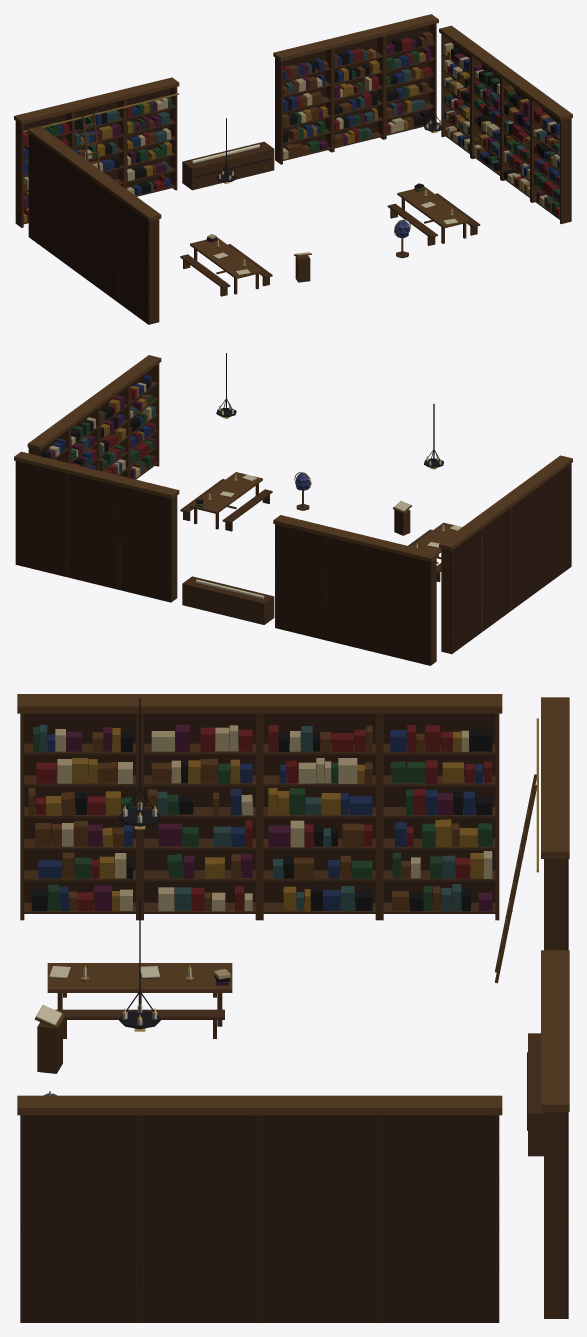
The model's file is moon-archive.glb.
3 renders of one model, top to bottom at view 1: azimuth 30°, elevation 25°; view 2: azimuth 150°, elevation 25°; view 3: azimuth 270°, elevation 25°, orthographic. The views are drawn at different scales.
Visible parts, largest first — view 1: moon-archive; view 2: moon-archive; view 3: moon-archive.
Part boxes in pixels (bbox=[...]): moon-archive: bbox=[14, 14, 572, 324]; moon-archive: bbox=[14, 353, 572, 665]; moon-archive: bbox=[17, 694, 569, 1322].
Size of the model in its own units: 19.62 by 7.01 by 11.07.
